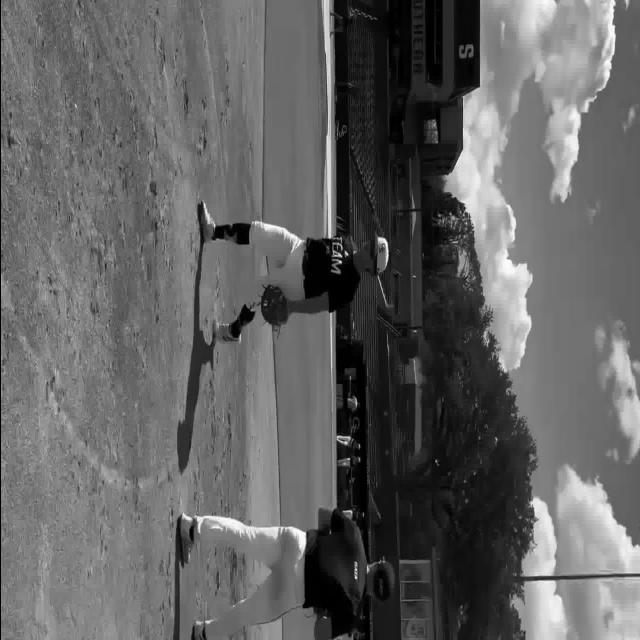baseball_glove: (260, 284, 288, 331)
shoe: (178, 513, 194, 565), (198, 202, 215, 242), (212, 322, 240, 345), (191, 620, 205, 640)
